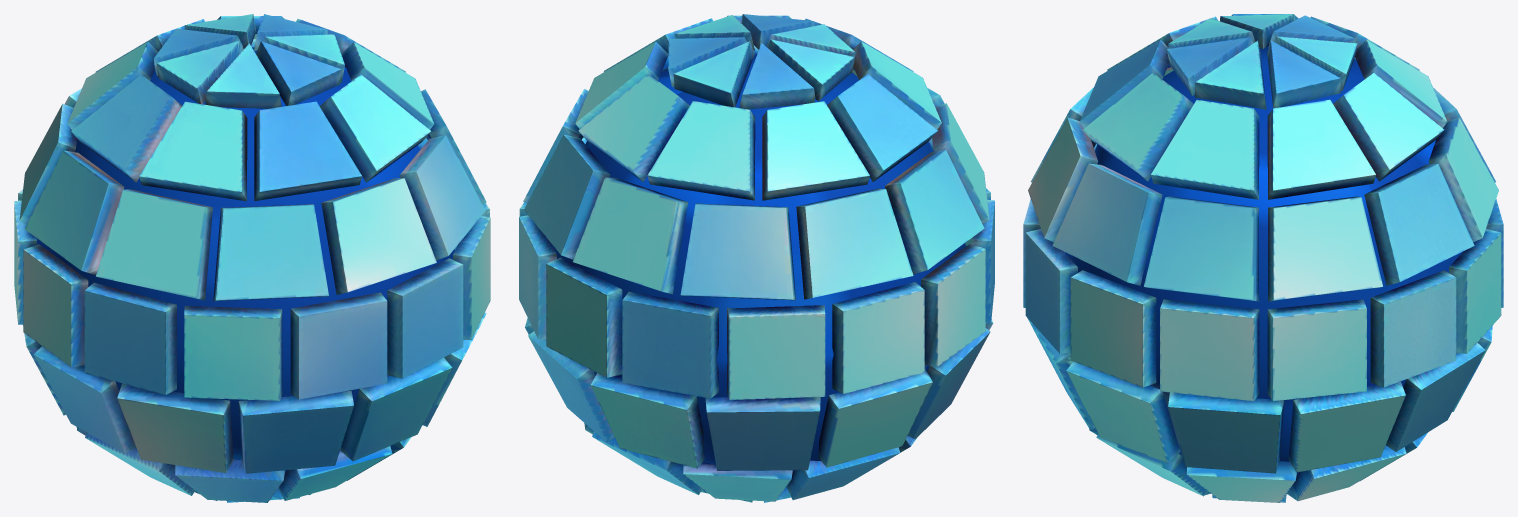
The model's file is 0-discoball_blue.fbx.
3 renders of one model, left to right at view 1: azimuth 30°, elevation 25°; view 2: azimuth 150°, elevation 25°; view 3: azimuth 270°, elevation 25°, orthographic.
Visible parts, largest first — view 1: 0-discoball_blue; view 2: 0-discoball_blue; view 3: 0-discoball_blue.
Boxes of the visible parts, left/top/right/bottom form: 0-discoball_blue: left=14, top=14, right=490, bottom=502; 0-discoball_blue: left=519, top=14, right=994, bottom=502; 0-discoball_blue: left=1023, top=14, right=1503, bottom=502.
Size of the model in its own units: 92.41 by 95.19 by 93.09.
